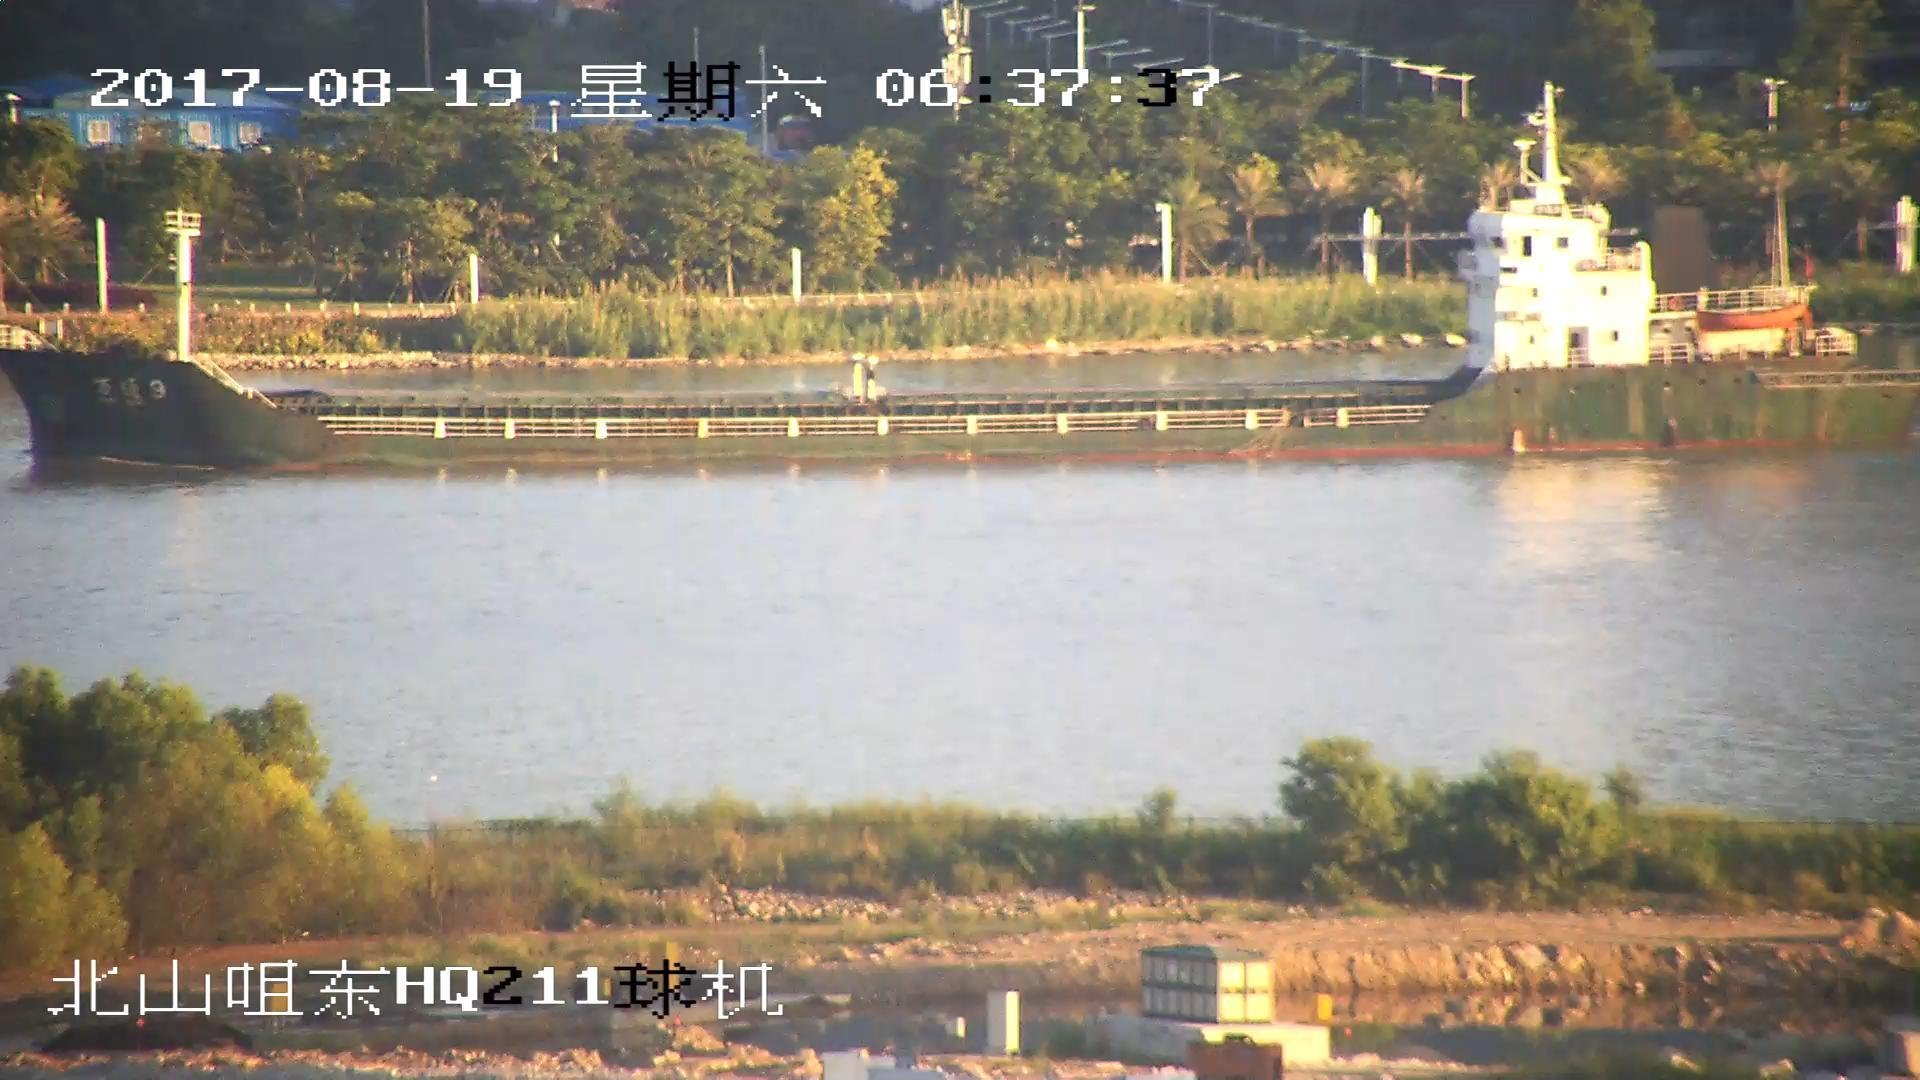Ship: (3, 135, 1920, 465)
